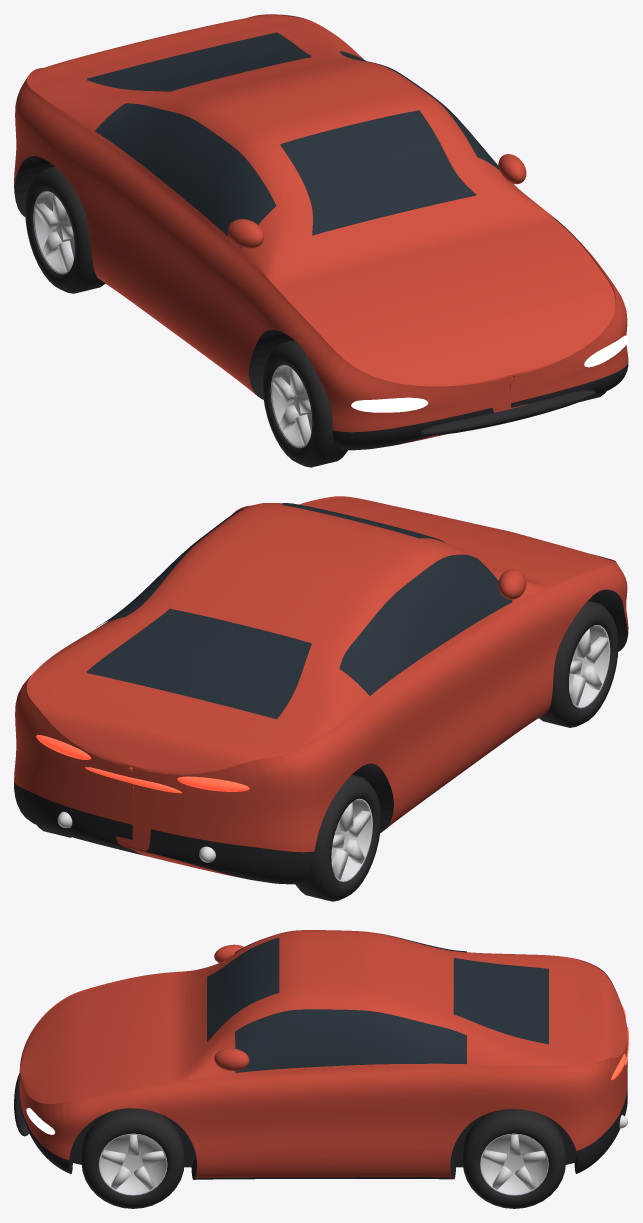
The model's file is kestrel.glb.
3 views of the same model, one above another, from view 1: azimuth 30°, elevation 25°; view 2: azimuth 150°, elevation 25°; view 3: azimuth 270°, elevation 25° (orthographic). The views are drawn at different scales.
Visible parts, largest first — view 1: a_body, b_glass, wheel_fl, wheel_rl, grille, lamp_head_l, mirror_l, mirror_r; view 2: a_body, b_glass, wheel_rl, wheel_fl, lamp_tail_l, mirror_l, tail_bar, lamp_tail_r; view 3: a_body, b_glass, wheel_fr, wheel_rr, mirror_r, grille.
Part boxes in pixels (x1,y1,x2,y2): a_body: (14, 14, 628, 450); b_glass: (87, 32, 499, 247); wheel_fl: (262, 340, 347, 467); wheel_rl: (25, 167, 105, 293); grille: (418, 389, 596, 435); lamp_head_l: (351, 397, 428, 412); mirror_l: (227, 219, 263, 248); mirror_r: (498, 154, 526, 184); a_body: (14, 496, 628, 884); b_glass: (86, 503, 512, 718); wheel_rl: (295, 775, 380, 901); wheel_fl: (539, 600, 618, 727); lamp_tail_l: (177, 776, 249, 791); mirror_l: (498, 569, 526, 599); tail_bar: (85, 767, 181, 793); lamp_tail_r: (36, 735, 91, 759); a_body: (19, 930, 627, 1179); b_glass: (207, 934, 548, 1072); wheel_fr: (81, 1108, 184, 1208); wheel_rr: (462, 1109, 565, 1208); mirror_r: (214, 1048, 249, 1070); grille: (14, 1073, 29, 1136).
Bounding box in the file's own units: 1.75 × 1.3 × 3.74.
